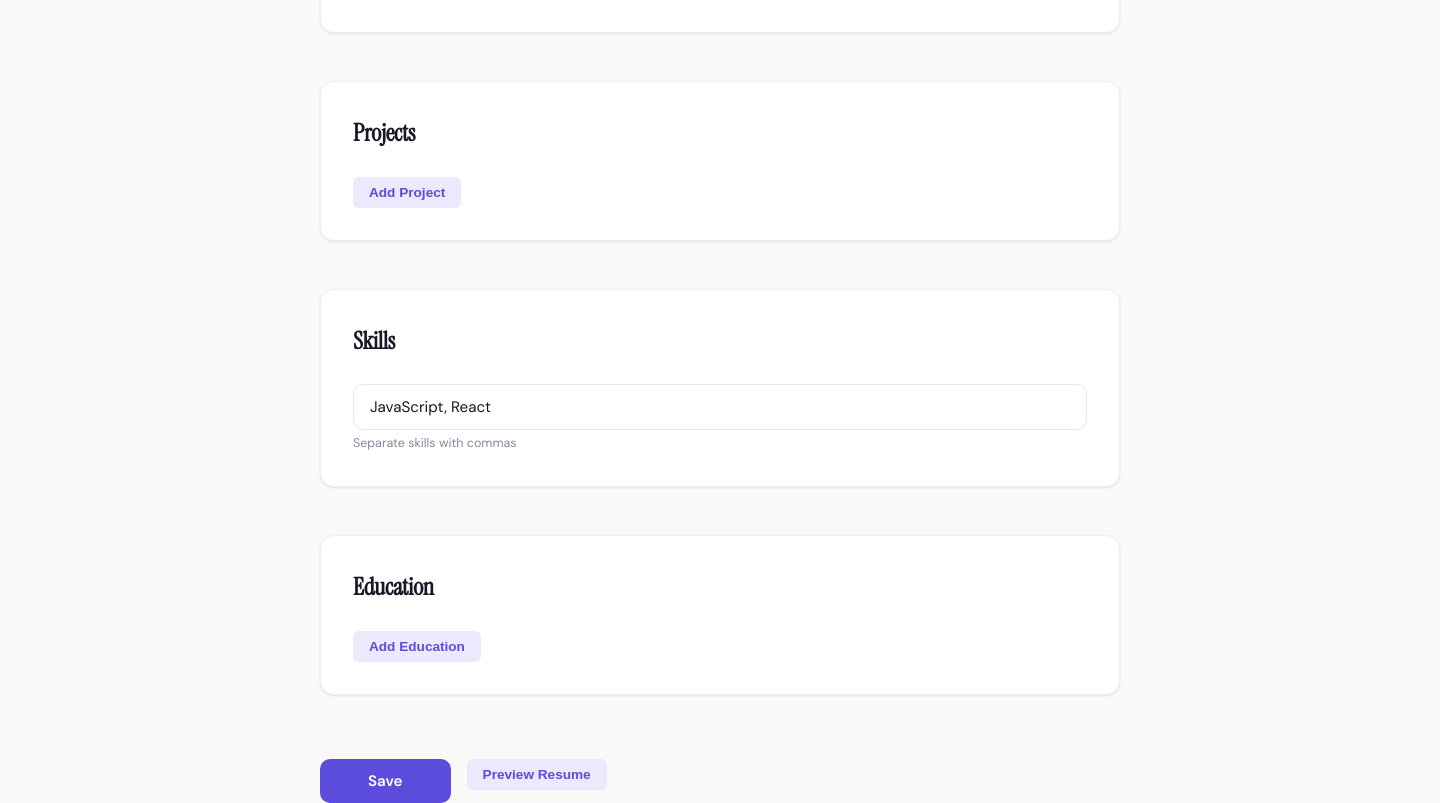
Test: Resume › dismisses the Preview modal via the Close button
(page scrolled)
Click the button "Preview Resume": (537, 774) [467,759,607,790]
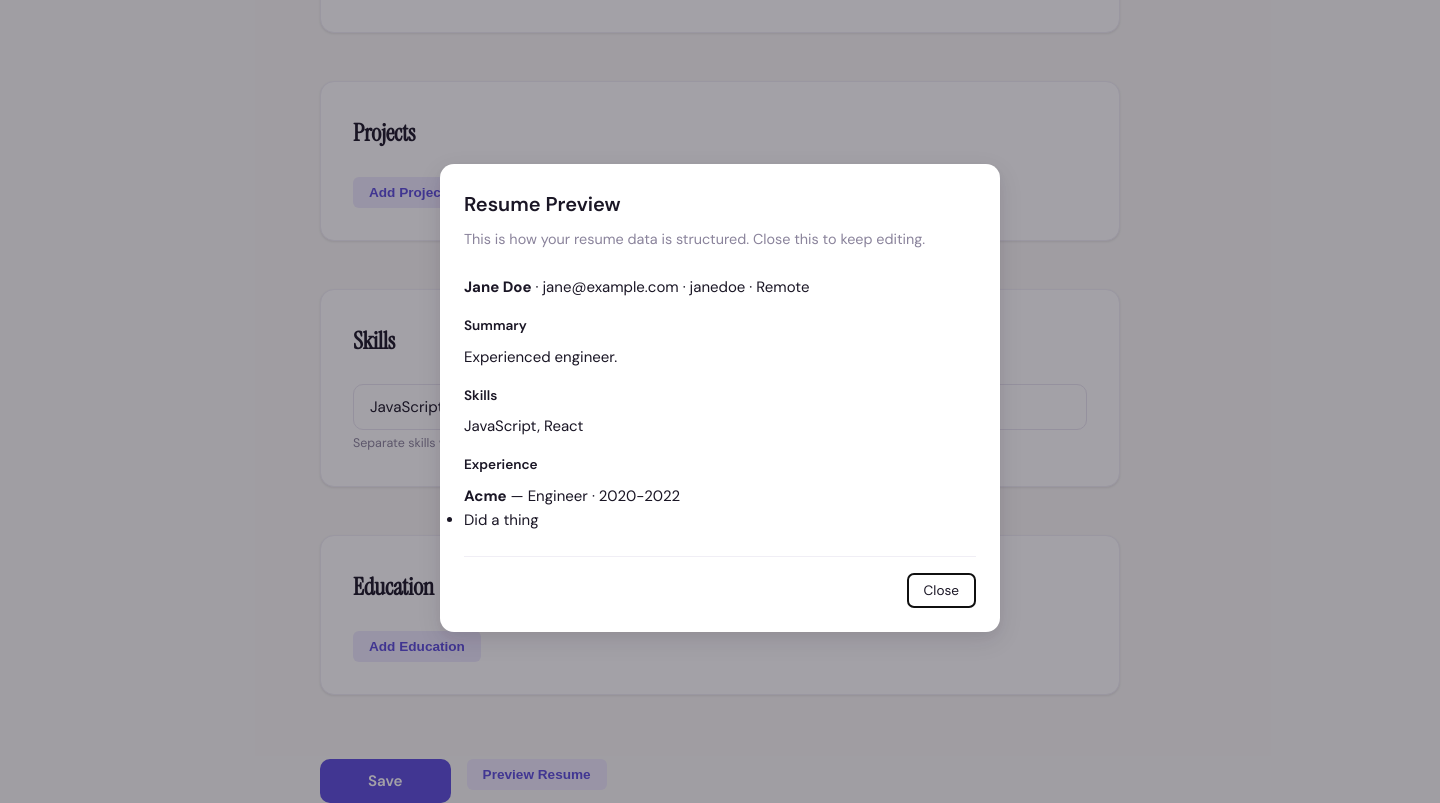
Now the heading "Resume Preview" is shown, box [464,191,620,217]
Click the button "Close": (941, 591) [907,573,976,608]
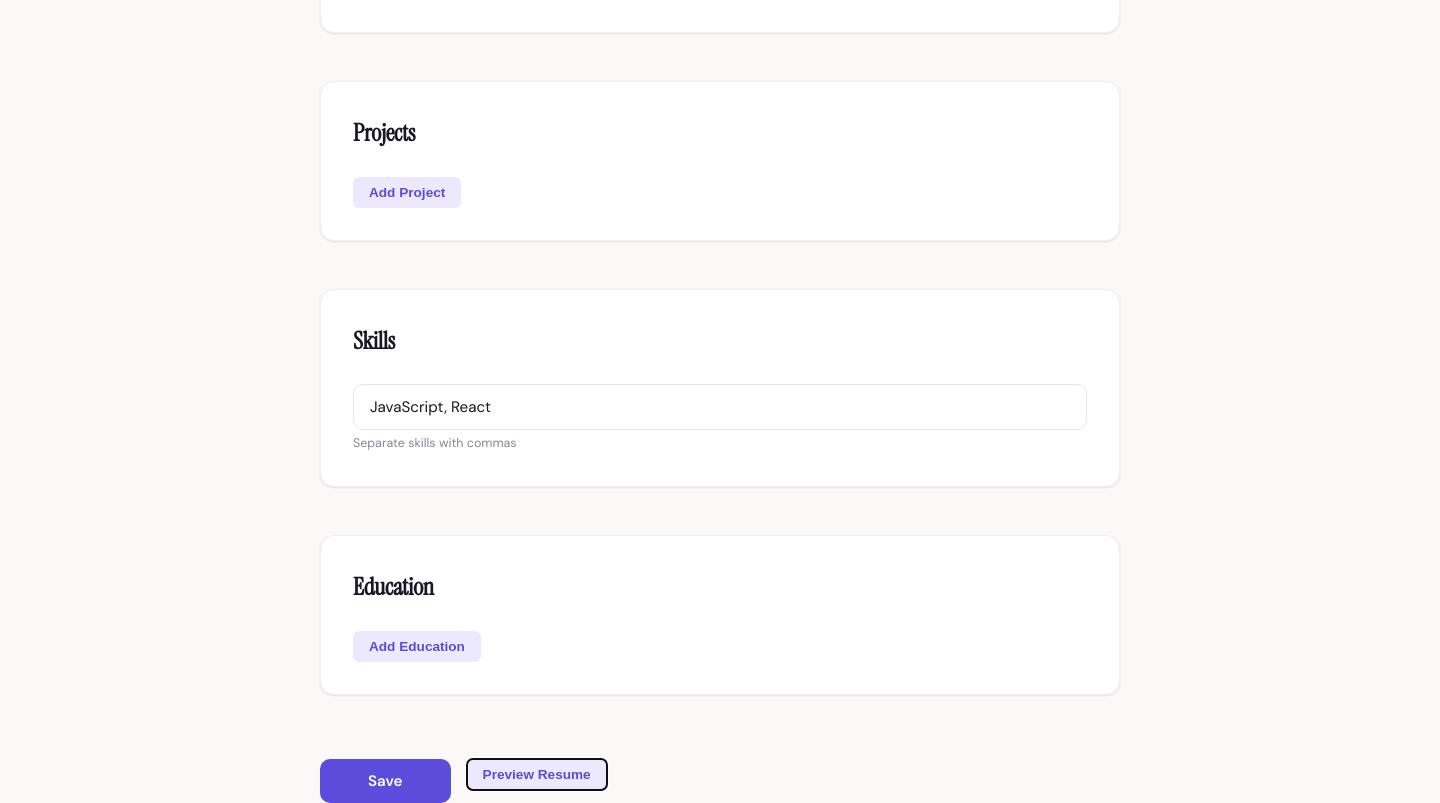
Now the heading "Resume Preview" is gone
